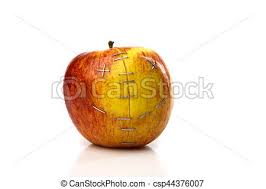damaged_apple: (63, 48, 177, 149)
